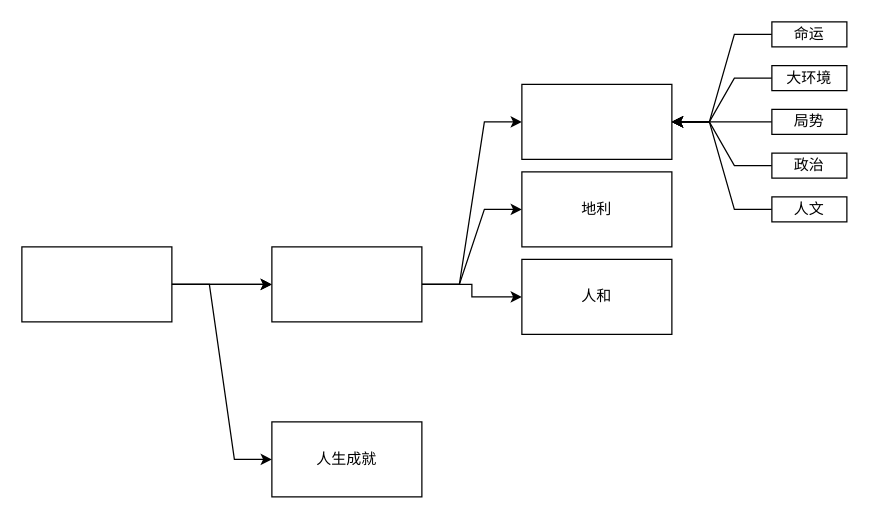
Image size: 869x519. Some labels were removed from this diagram. Here are the shapes that lost their labels. From the top down, the centre of each, then its label:
At (596,121): "天时".
At (96,284): "achievement".
At (346,284): "某一时刻/关键事项的结果".
